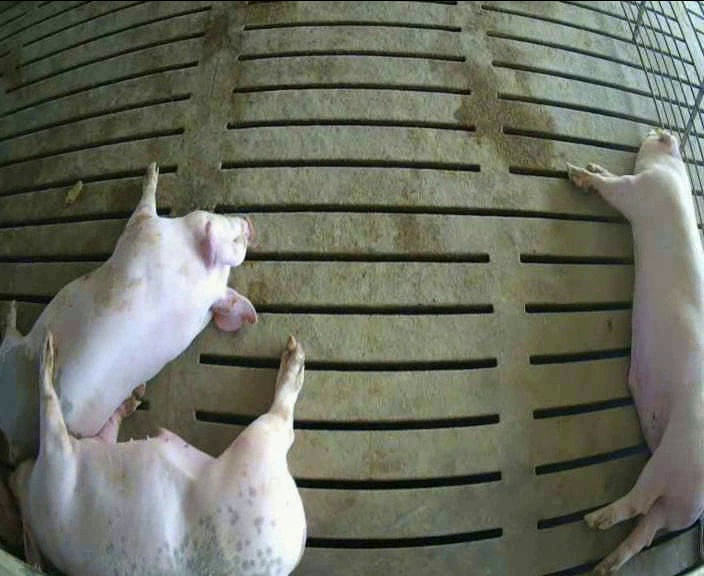pig: (0, 163, 254, 460), (9, 335, 305, 574), (568, 129, 703, 574)
